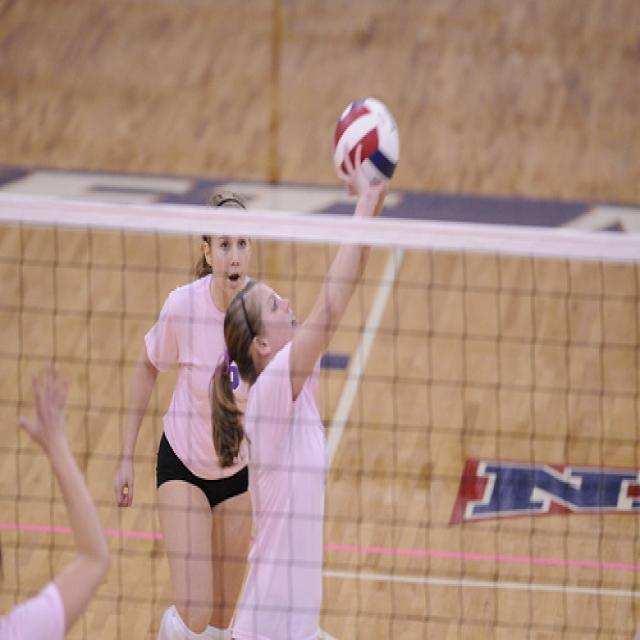volleyball: (332, 98, 400, 184)
